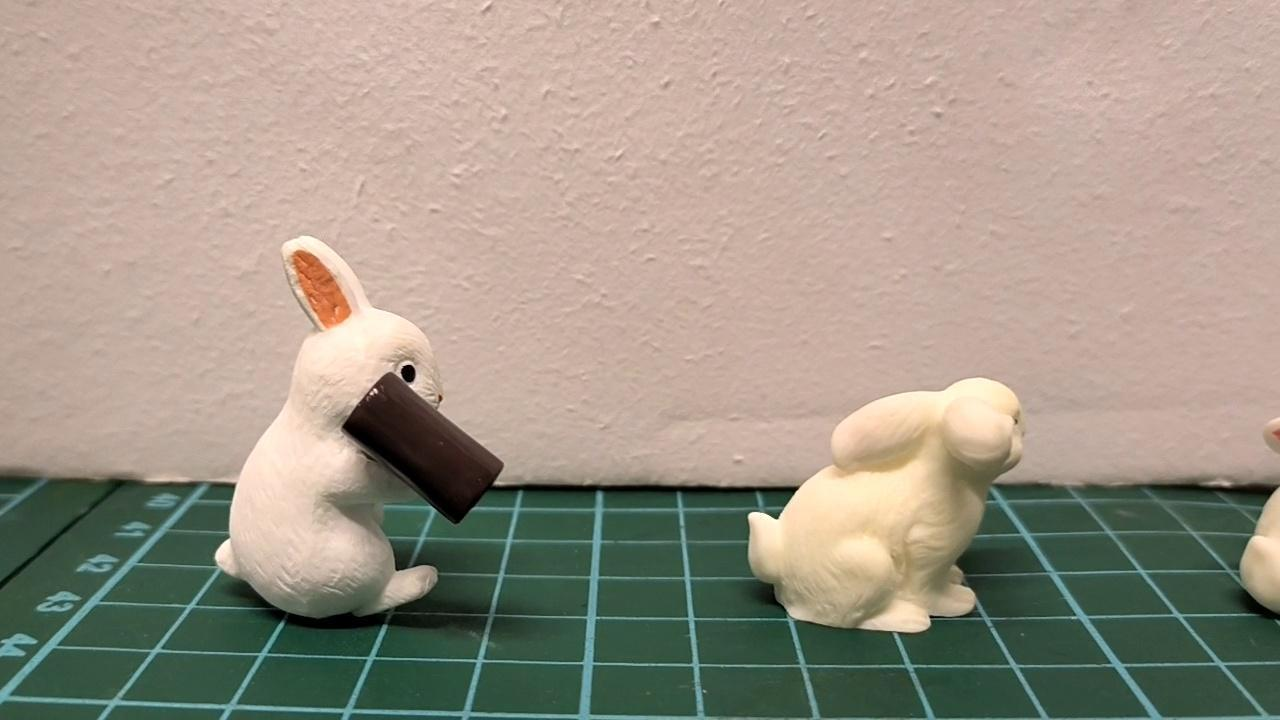pet: (215, 234, 507, 622), (748, 375, 1027, 636), (1240, 415, 1280, 618)
